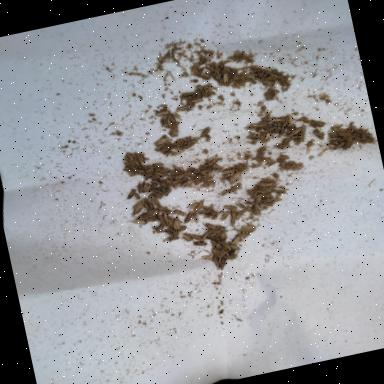pbw: (152, 209, 171, 230), (150, 132, 171, 148), (136, 206, 160, 220), (160, 230, 182, 245), (138, 194, 154, 212), (128, 202, 146, 218), (310, 126, 328, 142), (190, 198, 207, 214), (184, 197, 202, 212), (250, 192, 266, 208), (196, 125, 213, 140), (286, 126, 304, 140), (144, 178, 162, 192), (204, 154, 222, 168), (222, 200, 240, 214), (148, 192, 163, 208), (151, 186, 168, 200), (120, 189, 138, 202), (257, 178, 276, 190), (129, 153, 145, 167), (182, 164, 198, 178), (274, 123, 290, 137), (197, 178, 217, 189), (178, 178, 196, 190), (220, 166, 238, 178), (180, 229, 194, 244), (170, 216, 184, 231), (248, 120, 268, 130), (192, 238, 210, 249), (172, 207, 187, 220), (179, 90, 198, 100), (182, 211, 195, 225), (137, 182, 152, 194), (219, 71, 231, 86), (141, 163, 156, 175), (229, 234, 243, 246), (334, 138, 348, 150), (154, 108, 170, 118), (226, 184, 242, 194), (200, 84, 213, 96), (170, 162, 182, 175), (130, 218, 146, 227), (162, 116, 174, 128), (268, 115, 284, 124), (218, 210, 231, 221), (228, 242, 242, 252), (205, 222, 219, 232), (170, 172, 184, 182), (189, 96, 204, 104), (218, 188, 232, 196), (153, 144, 166, 152), (158, 170, 168, 178)
